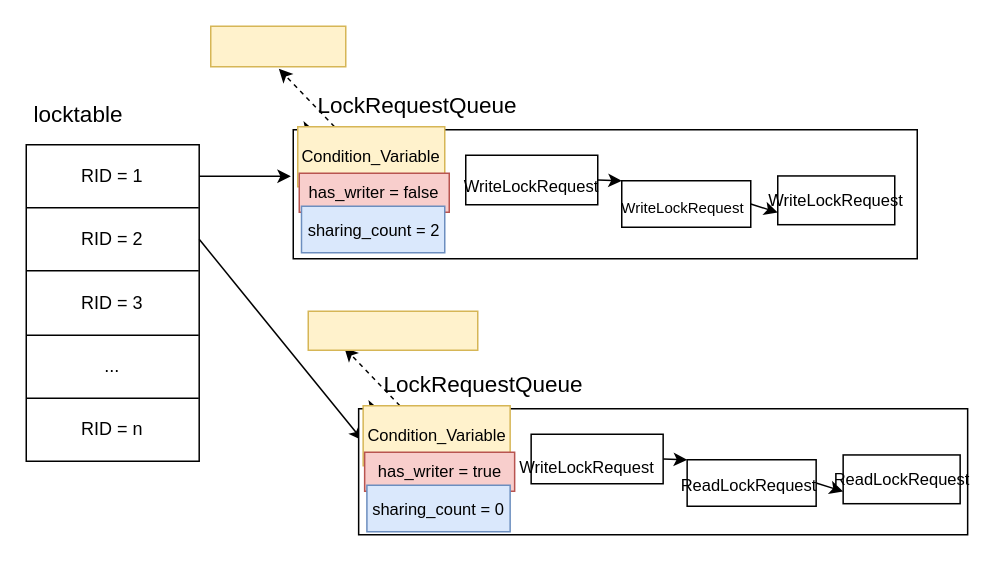
Image size: 996x561. Some labels were removed from this diagram. The shapes that lost their labels are listed below. From the top down, each one's centre as x and y in pixels, then its label:
At [277,46]: "写请求在这里等待".
At [392,330]: "写或读请求在这里等待".
